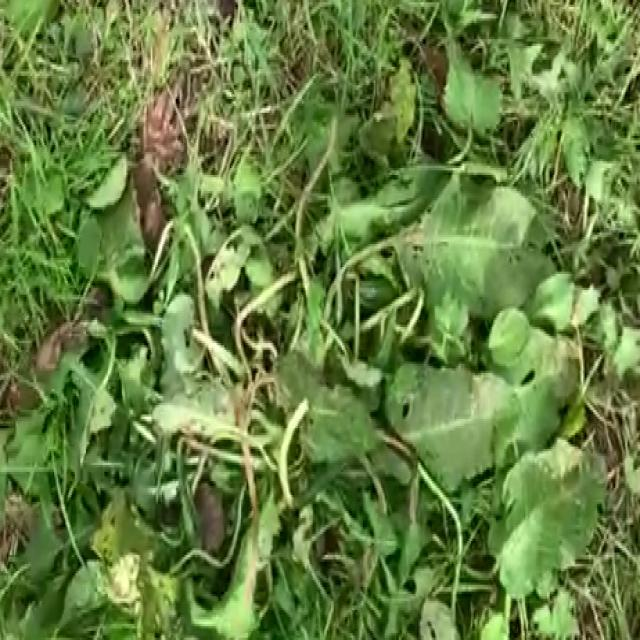organic waste: (38, 57, 597, 640)
